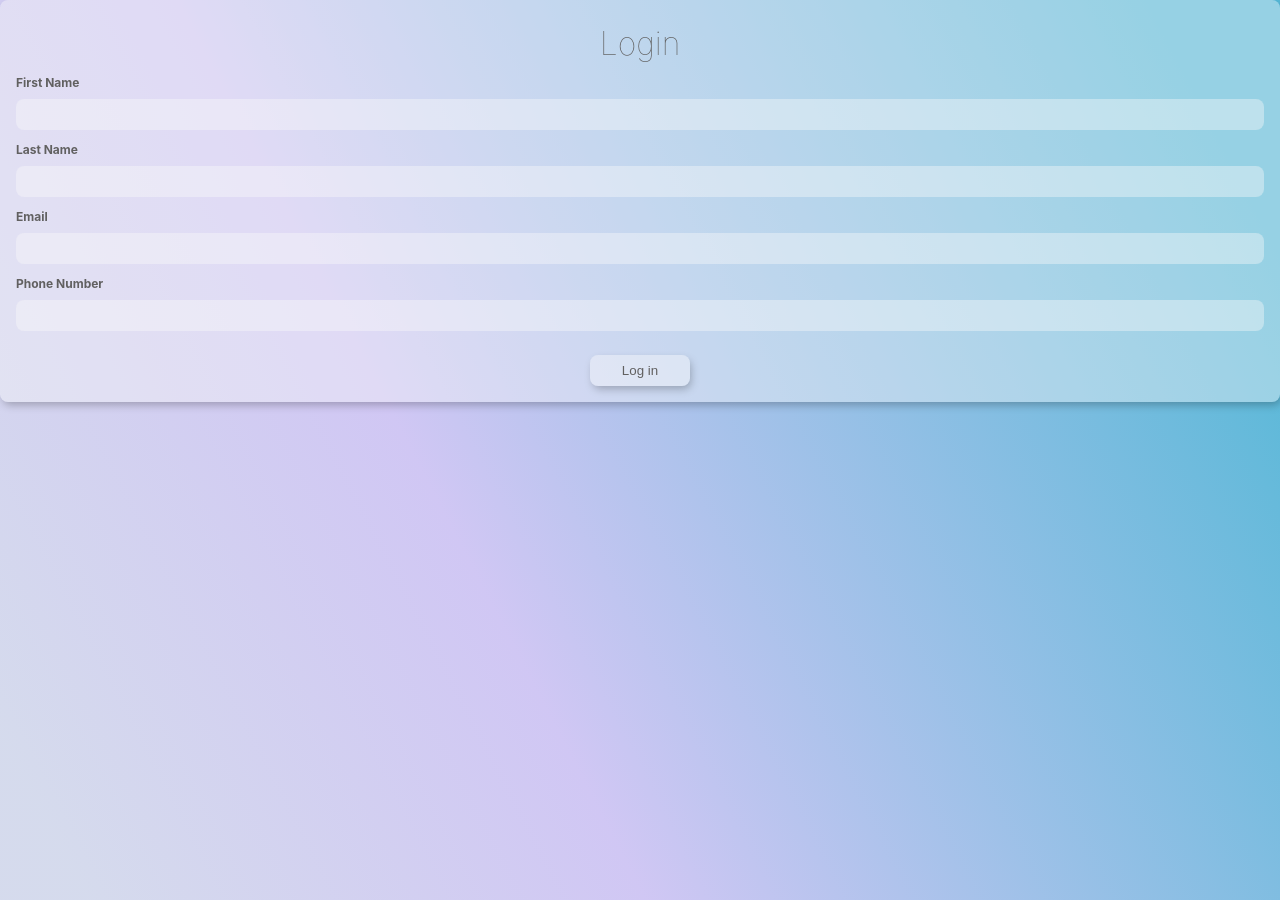
Login › should render an error if the email is missing
Type "John" into the field with test id "first-name-input" at [640, 114], box [16,99,1264,130]
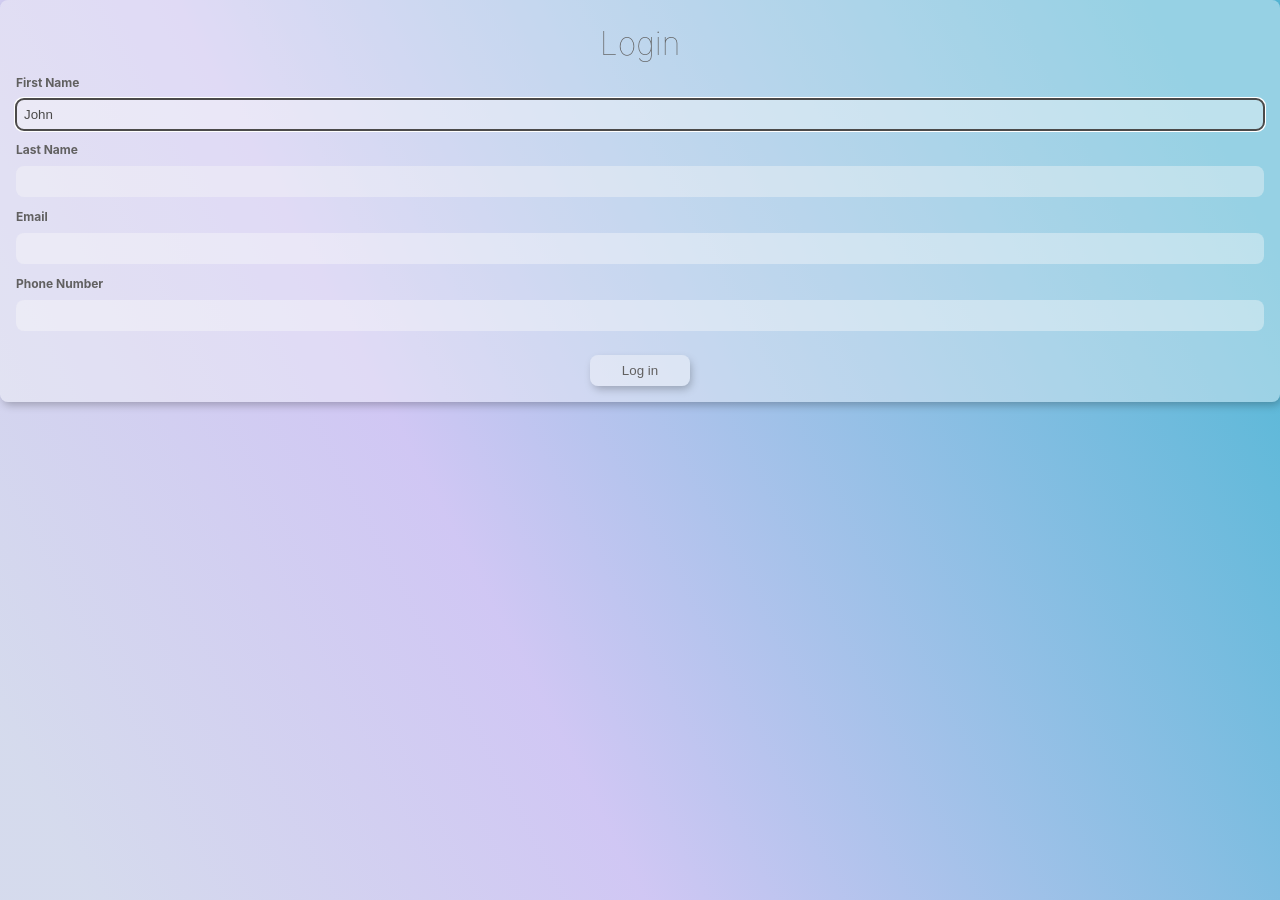
Type "Doe" into the field with test id "last-name-input" at [640, 182], box [16,166,1264,197]
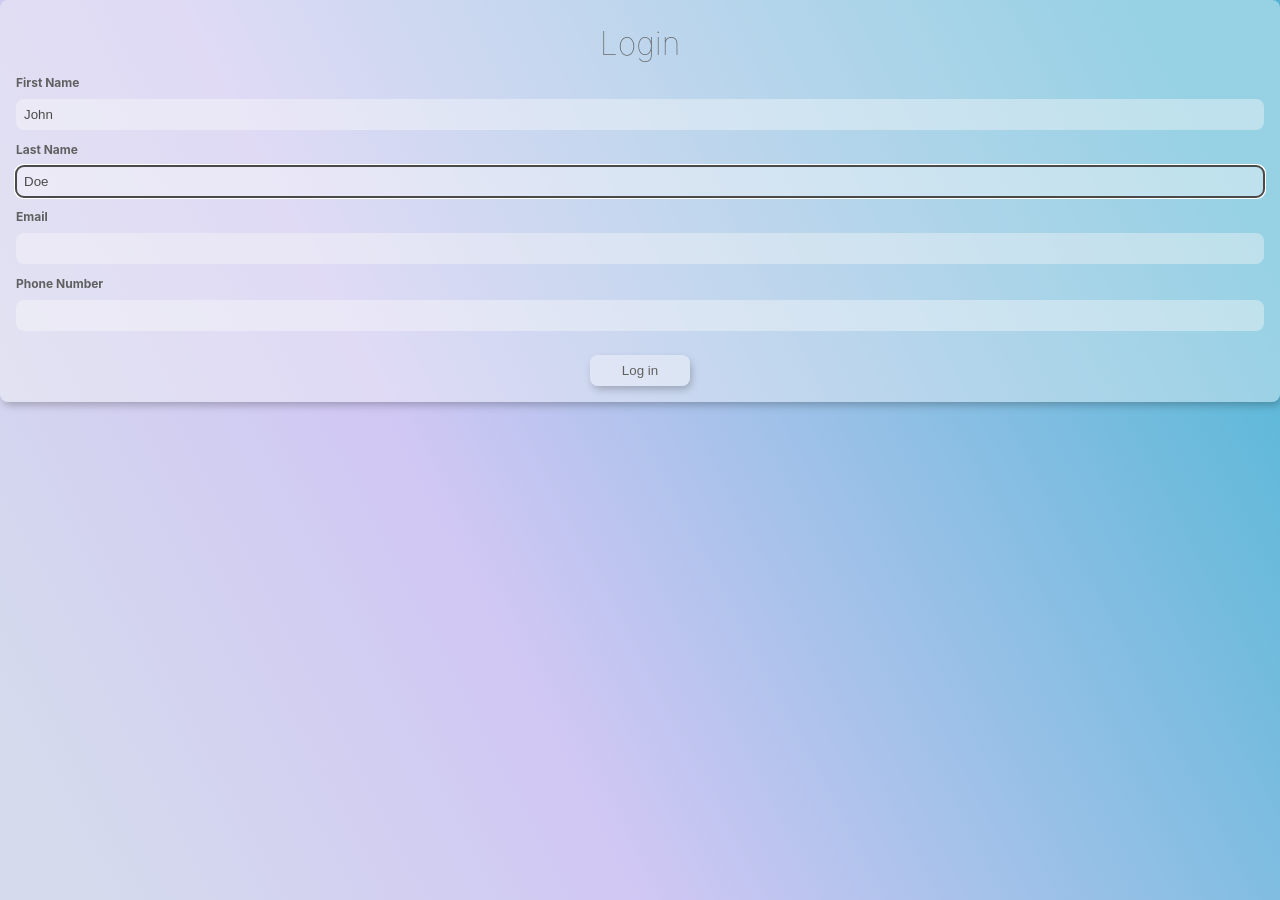
Type "1234567890" into the field with test id "phone-number-input" at [640, 316], box [16,300,1264,331]
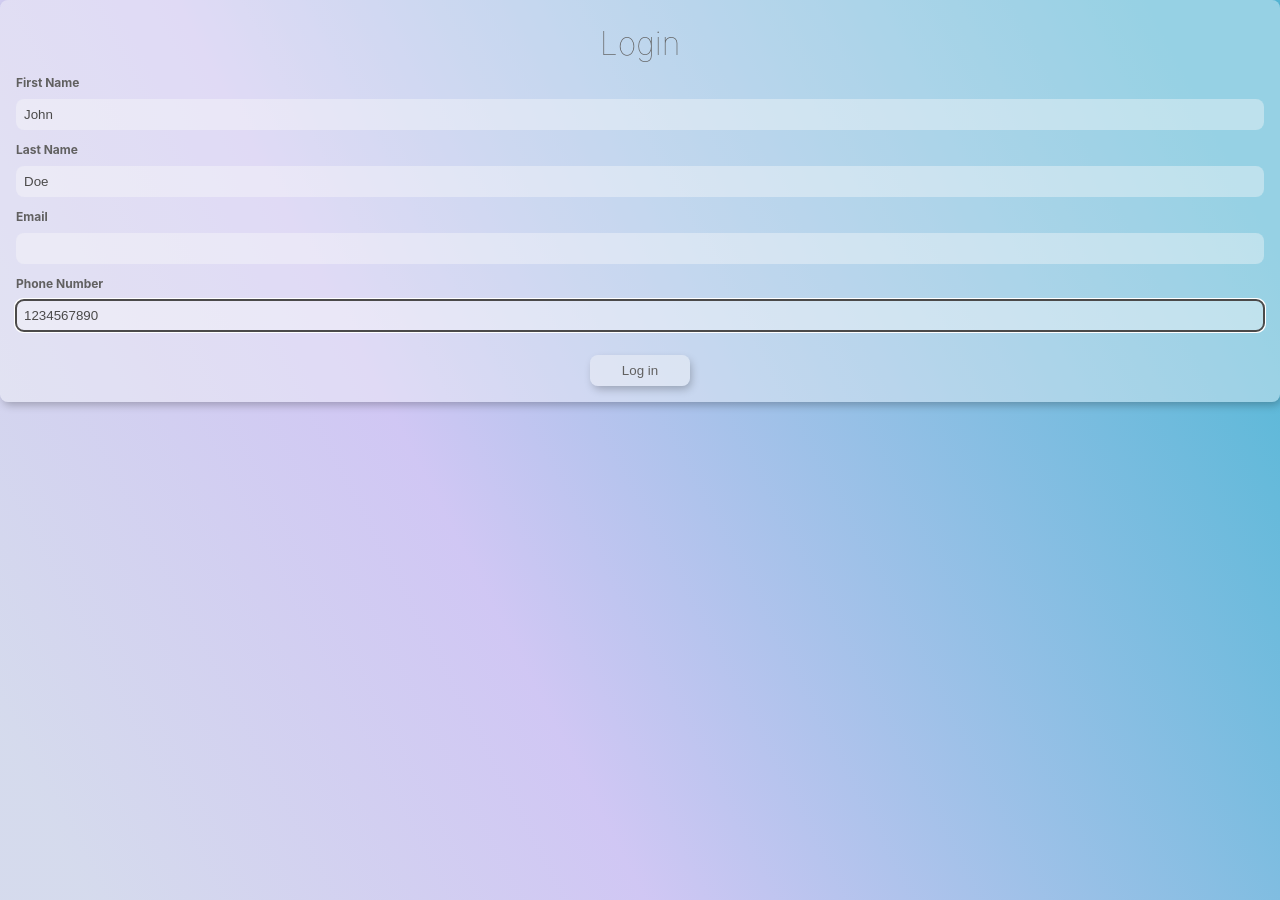
Click the button with test id "submit-button" at [640, 370], box [590,355,690,386]
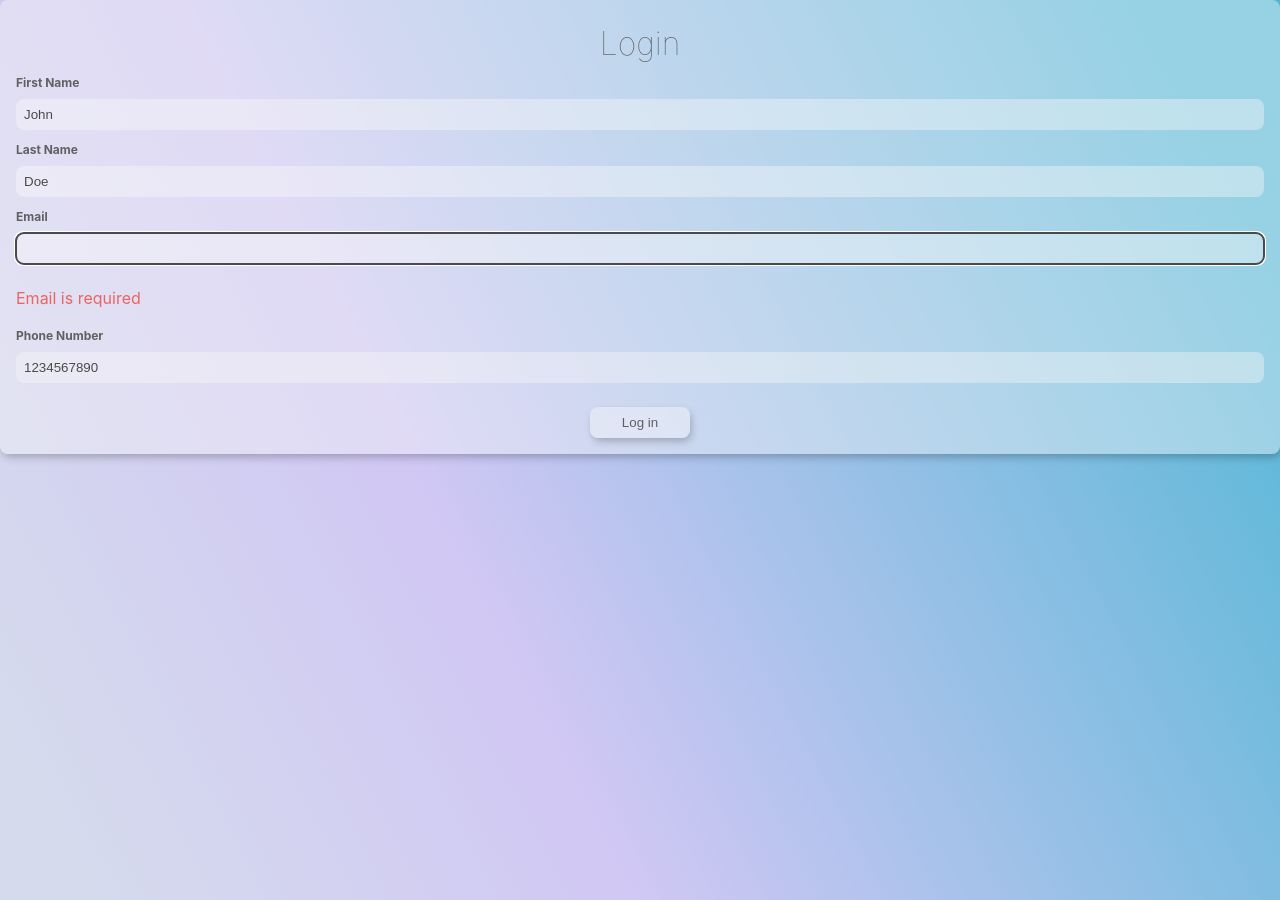
Result: the text "Email is required" is shown at [16,288,141,308]
